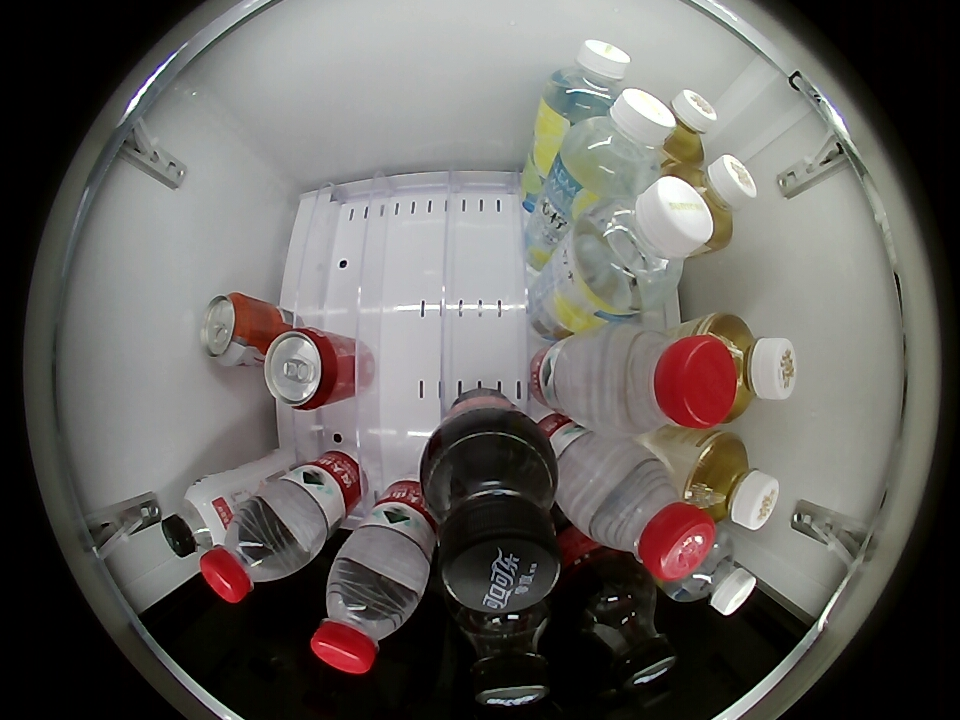jianlibao: (201, 293, 257, 368)
kele: (263, 327, 341, 411)
lingdukele-b: (428, 440, 563, 614), (569, 573, 677, 690), (450, 598, 556, 707)
nongfushanquan: (571, 444, 714, 581), (589, 322, 737, 434), (312, 543, 428, 675), (200, 500, 306, 603)
qinningshui: (571, 177, 714, 313), (561, 88, 674, 195), (664, 537, 756, 616), (544, 39, 631, 119)
rancha-2: (696, 313, 796, 423), (682, 432, 779, 531), (671, 154, 756, 249), (656, 89, 717, 166)
yuanqishui: (162, 481, 233, 558)
